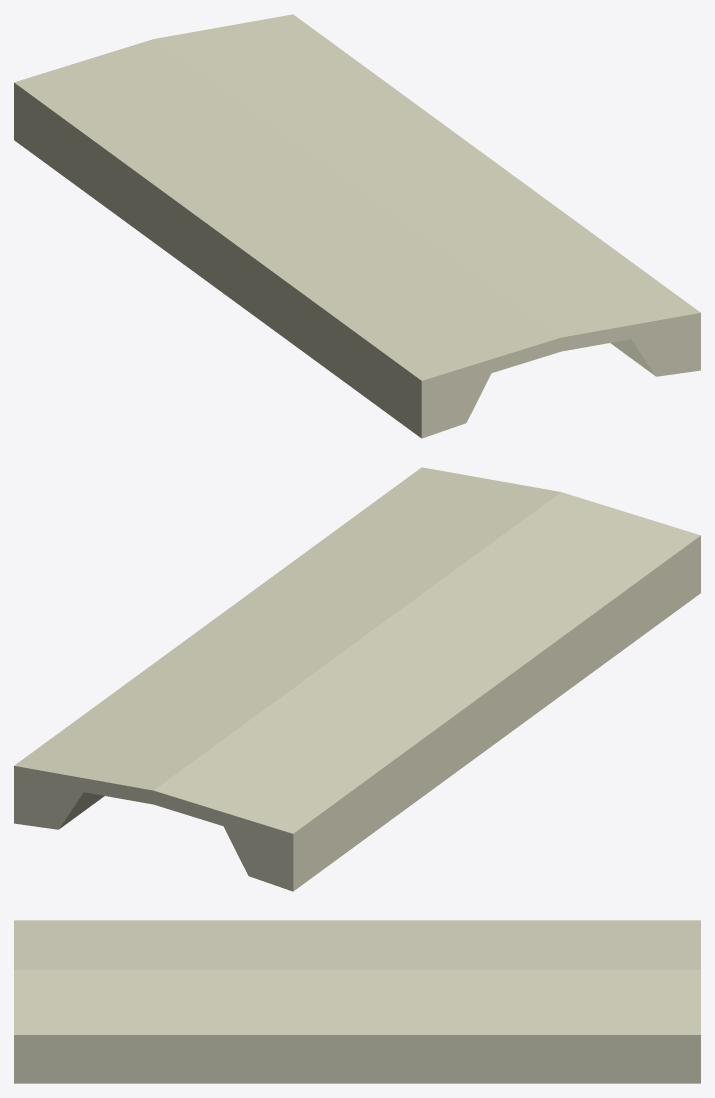
Rendered from subwayCeiling.glb.
The picture shows the model from 3 angles, top to bottom: view 1: azimuth 30°, elevation 25°; view 2: azimuth 150°, elevation 25°; view 3: azimuth 270°, elevation 25°; orthographic projection. The views are drawn at different scales.
Parts seen in each view (by area): view 1: Cube.001; view 2: Cube.001; view 3: Cube.001.
Boxes of the visible parts, <box> form: Cube.001: <box>14,14,700,438</box>; Cube.001: <box>14,467,700,891</box>; Cube.001: <box>14,920,700,1083</box>.
Bounding box in the file's own units: 9.61 × 2.21 × 24.32.
